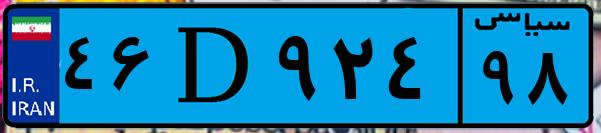2: (330, 28, 385, 110)
4: (385, 28, 445, 110), (57, 26, 110, 100)
6: (110, 28, 158, 98)
8: (525, 38, 570, 115)
9: (270, 28, 330, 110), (475, 38, 525, 113)
D: (158, 12, 270, 120)
